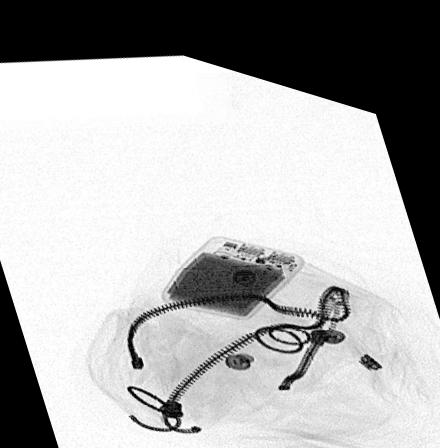Powerbank: (158, 222, 304, 305)
